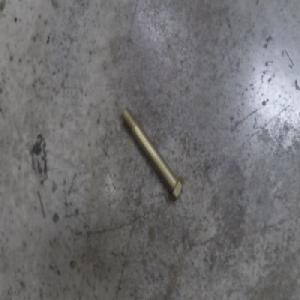Bolt: (120, 106, 184, 202)
